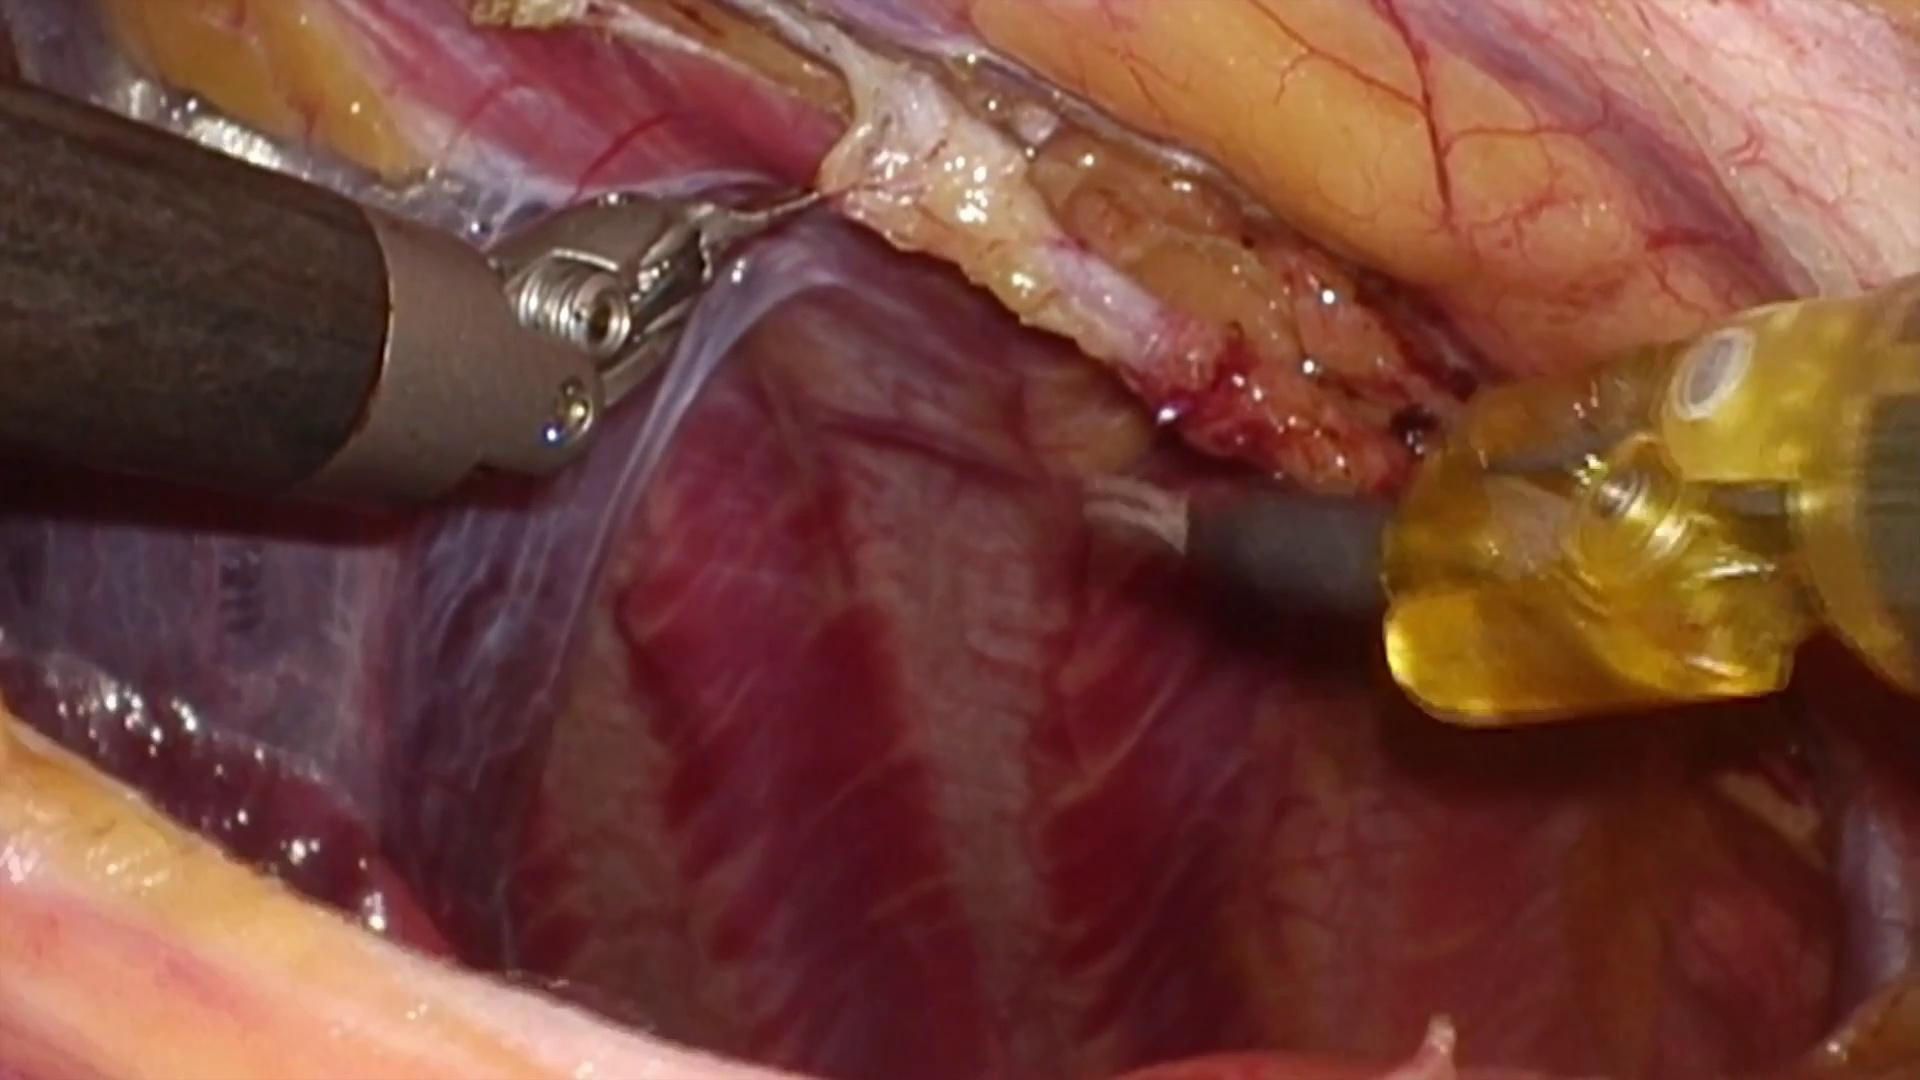Cautery_Spatula: (1083, 448, 1402, 673)
Debakey: (673, 169, 833, 281)
